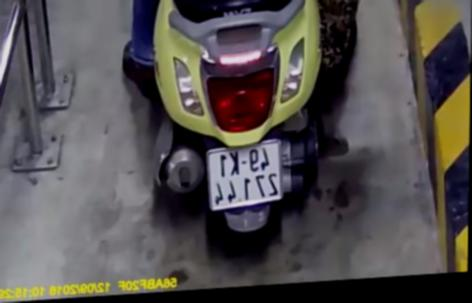License_Plate: (201, 134, 289, 216)
